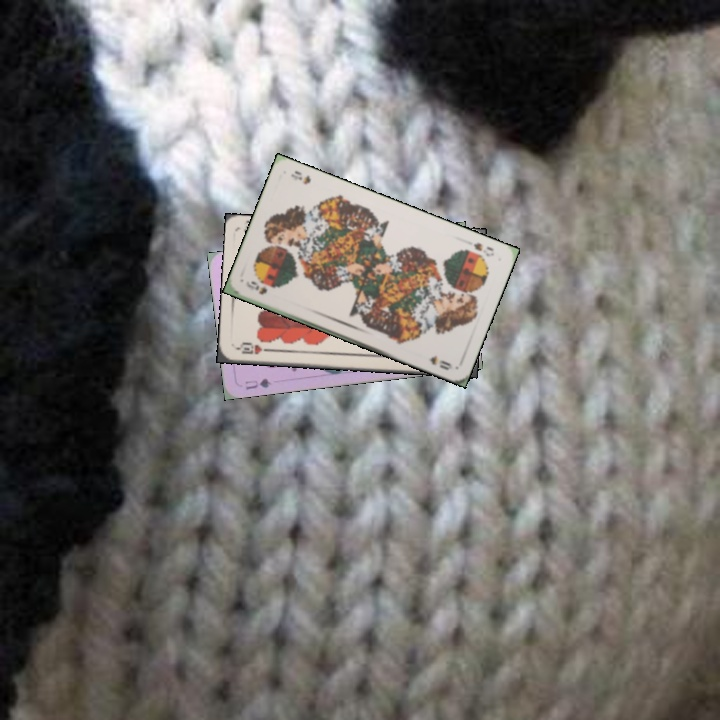GU: (241, 374, 274, 392)
H10: (233, 339, 273, 357)
SO: (242, 277, 270, 297), (470, 239, 497, 259)
